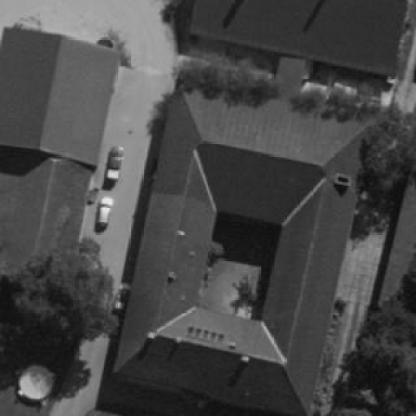solar-pv-panel: (184, 326, 226, 345)
